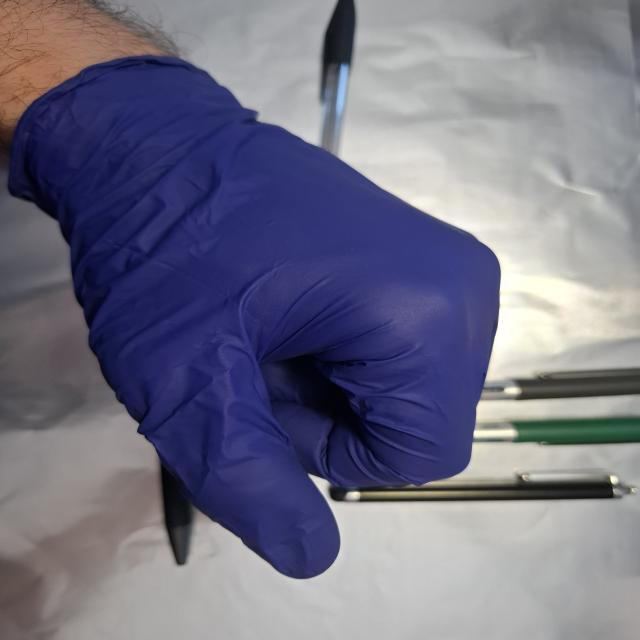glove_on: (6, 52, 507, 585)
